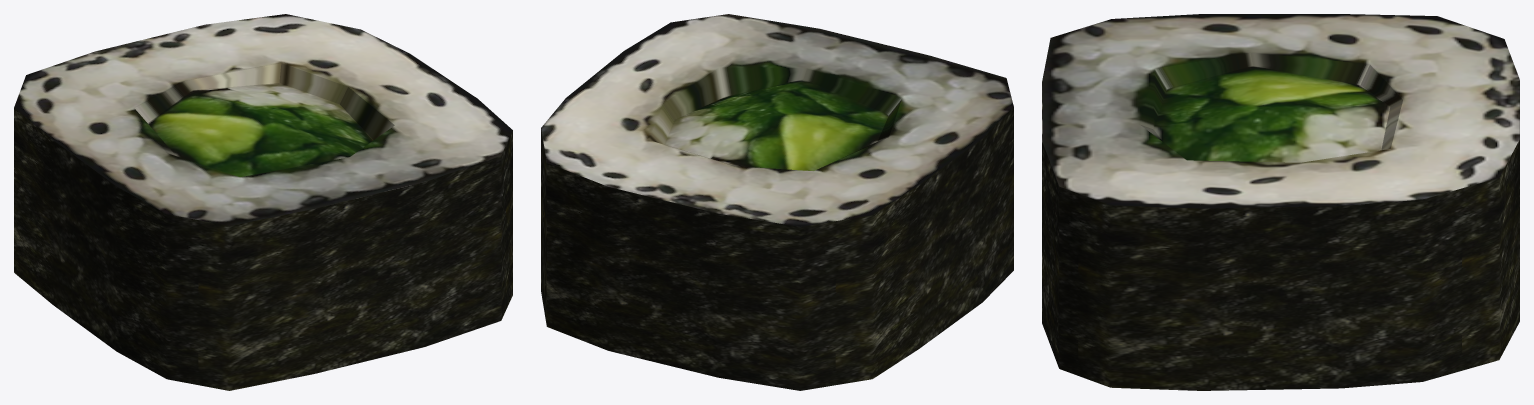
The model's file is sushi3.glb.
3 renders of one model, left to right at view 1: azimuth 30°, elevation 25°; view 2: azimuth 150°, elevation 25°; view 3: azimuth 270°, elevation 25°, orthographic. The views are drawn at different scales.
Visible parts, largest first — view 1: sushi_3; view 2: sushi_3; view 3: sushi_3.
Part boxes in pixels (left/top/right/bottom): sushi_3: left=14, top=14, right=512, bottom=390; sushi_3: left=541, top=14, right=1013, bottom=390; sushi_3: left=1042, top=14, right=1519, bottom=390.
Size of the model in its own units: 2 by 0.8919 by 2.07.
Materials: 2 (2 with a texture image).
